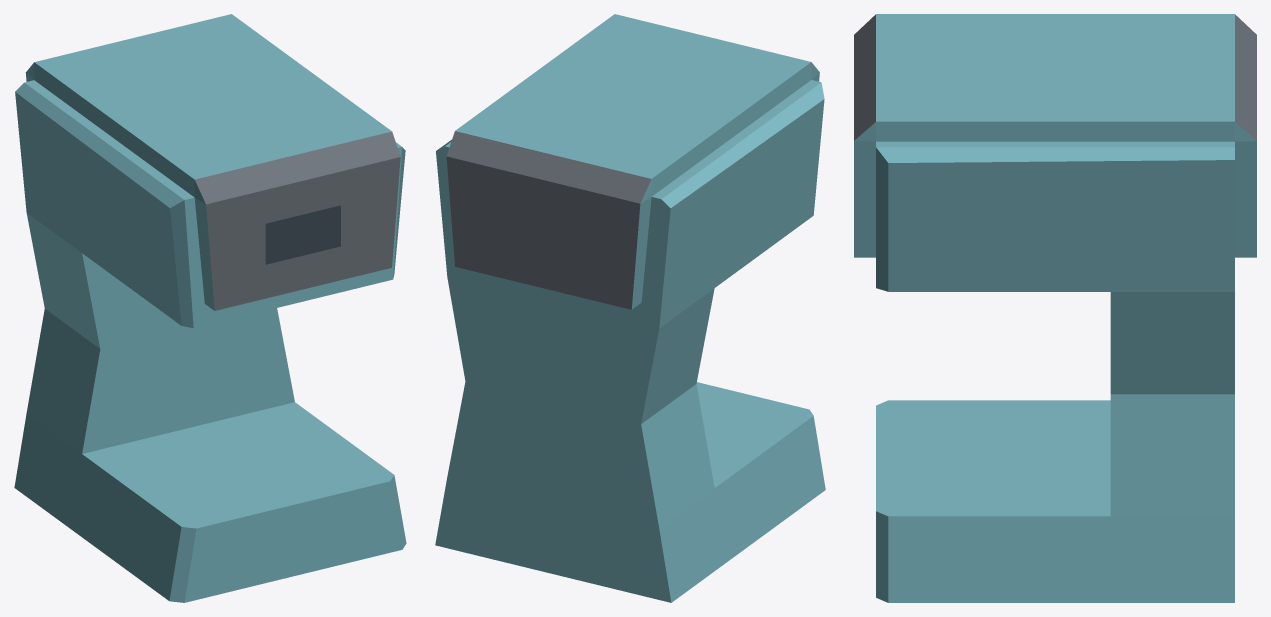
File: CoffeeMachine.FBX
The picture shows the model from 3 angles, left to right: view 1: azimuth 30°, elevation 25°; view 2: azimuth 150°, elevation 25°; view 3: azimuth 270°, elevation 25°; orthographic projection. The views are drawn at different scales.
Parts seen in each view (by area): view 1: CoffeeMachine; view 2: CoffeeMachine; view 3: CoffeeMachine.
Part boxes in pixels (x1,y1,x2,y2): CoffeeMachine: (14,14,406,602); CoffeeMachine: (435,14,825,602); CoffeeMachine: (854,14,1256,602).
Bounding box in the file's own units: 35.97 × 61 × 47.36.
